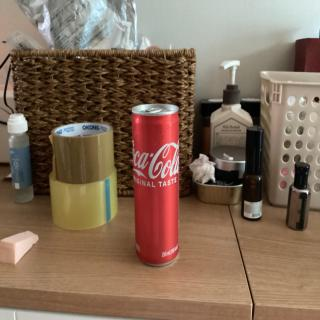cocacola: (130, 102, 184, 268)
